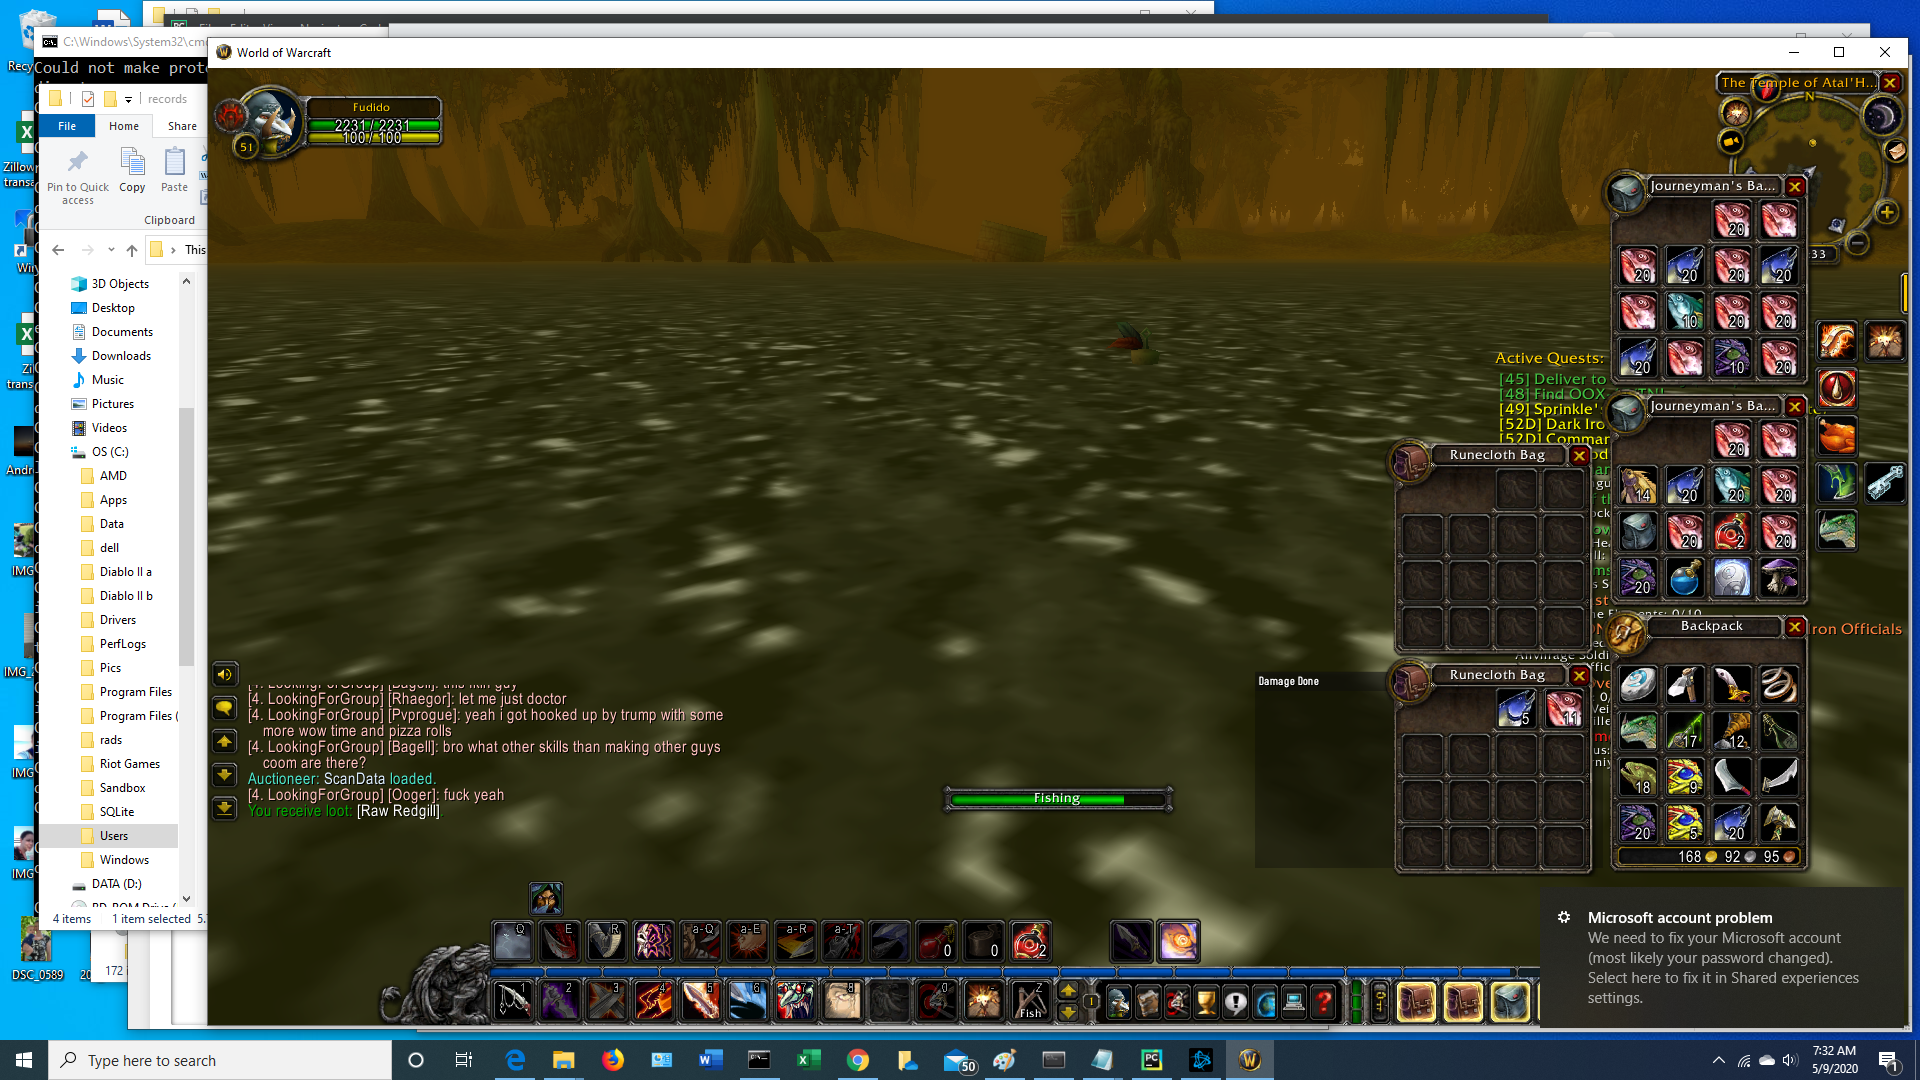bobber: (1110, 318, 1167, 372)
